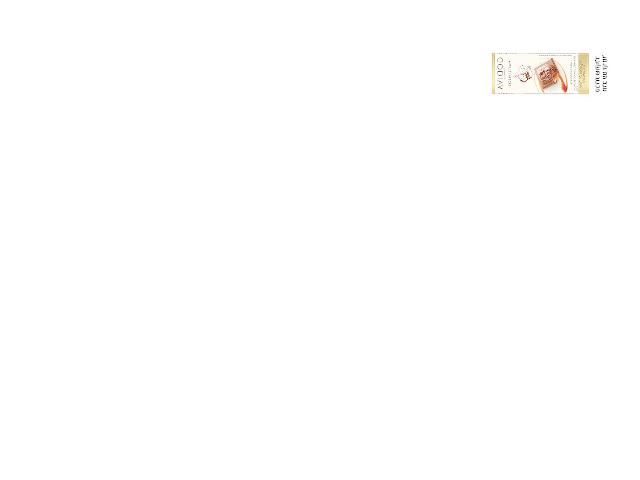chocolate: (489, 53, 592, 97)
